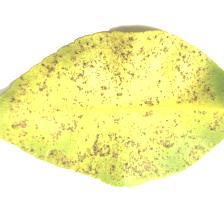canker: (53, 56, 189, 153)
